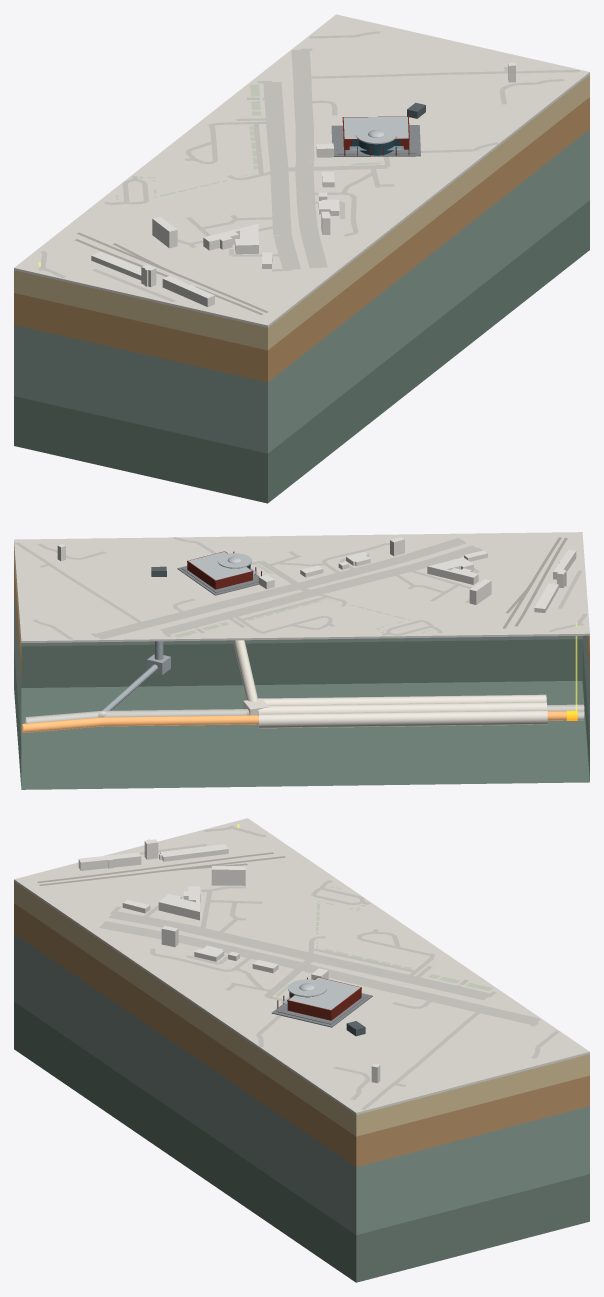
The model's file is borovaya.glb.
3 renders of one model, top to bottom at view 1: azimuth 30°, elevation 25°; view 2: azimuth 150°, elevation 25°; view 3: azimuth 270°, elevation 25°, orthographic. The views are drawn at different scales.
Parts seen in each view (by area): view 1: surface, soil-clay, soil-clay2, soil-loam, soil-fill, roads, buildings, rail, roof, green, step; view 2: soil-clay2, surface, roads, hall-s-Боровая, buildings, soil-clay, hall-c-Боровая, done-vera, hall-s-Боровая.001, future-lyubov, rail, roof (+5 smaller); view 3: surface, soil-clay, soil-clay2, soil-loam, soil-fill, roads, buildings, rail, roof, green.
Part boxes in pixels (<box>): surface: <box>14,14,589,327</box>; soil-clay: <box>14,129,589,453</box>; soil-clay2: <box>14,200,589,503</box>; soil-loam: <box>14,97,589,382</box>; soil-fill: <box>14,74,589,350</box>; roads: <box>38,31,579,302</box>; buildings: <box>91,62,515,306</box>; rail: <box>74,232,268,314</box>; roof: <box>343,117,408,138</box>; green: <box>116,84,382,200</box>; step: <box>336,126,416,154</box>; soil-clay2: <box>14,639,589,789</box>; surface: <box>14,532,589,642</box>; roads: <box>15,537,587,639</box>; hall-s-Боровая: <box>258,710,547,728</box>; buildings: <box>57,537,576,612</box>; soil-clay: <box>14,589,589,744</box>; hall-c-Боровая: <box>258,702,547,714</box>; done-vera: <box>21,711,566,732</box>; hall-s-Боровая.001: <box>258,694,546,705</box>; future-lyubov: <box>24,704,584,723</box>; rail: <box>503,537,567,628</box>; roof: <box>188,551,251,580</box>; surface: <box>14,818,589,1114</box>; soil-clay: <box>14,934,589,1235</box>; soil-clay2: <box>14,1002,589,1282</box>; soil-loam: <box>14,903,589,1167</box>; soil-fill: <box>14,882,589,1136</box>; roads: <box>99,825,559,1110</box>; buildings: <box>78,839,380,1083</box>; rail: <box>37,852,285,885</box>; roof: <box>288,977,360,1009</box>; green: <box>276,886,492,996</box>.
Size of the model in its own units: 558 by 165 by 461.
